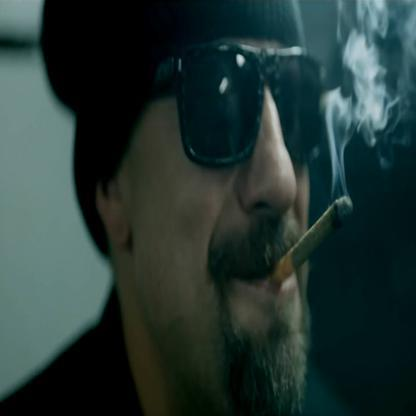cigarette: (273, 196, 354, 288)
person: (0, 0, 334, 415)
smoke: (322, 0, 415, 193)
